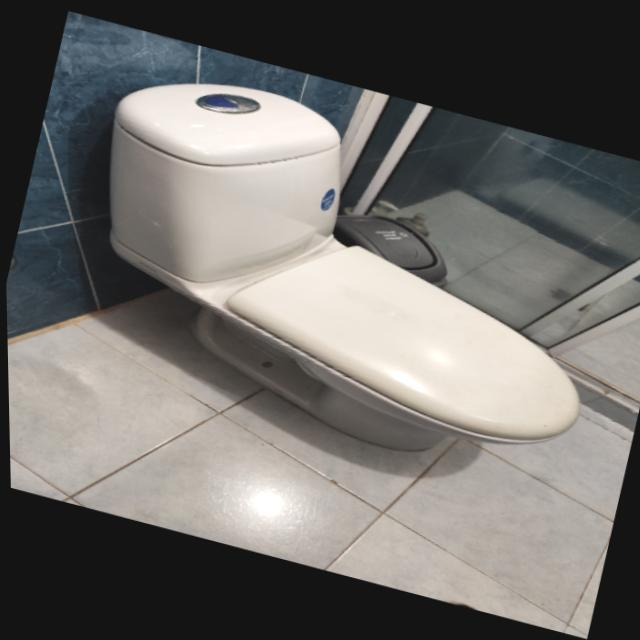toilet: (50, 52, 636, 493)
